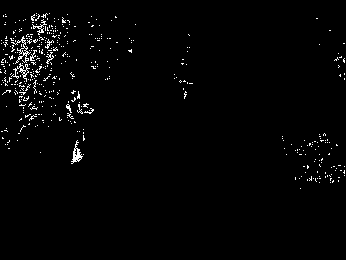person: (62, 88, 100, 167)
